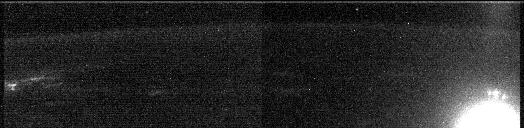positive: (485, 86, 511, 103)
